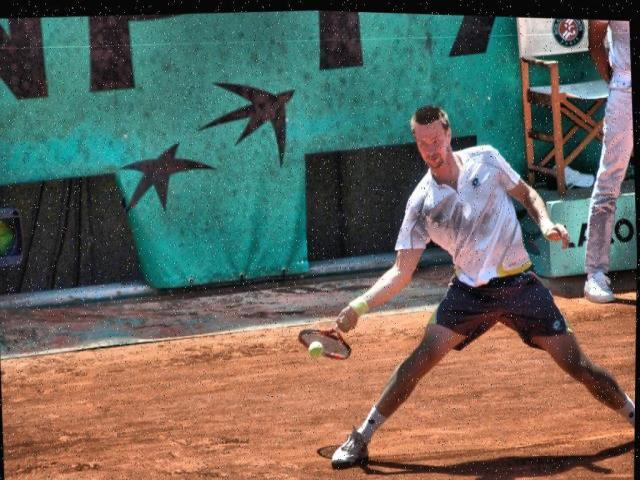tennis-ball: (309, 341, 323, 358)
